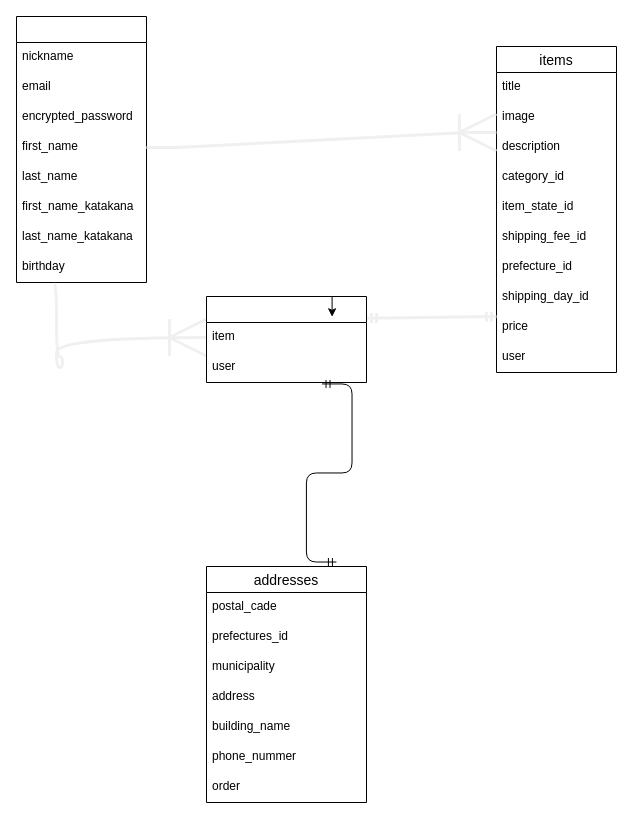
This 633x819 diagram has some shape labels left out. Each missing label, with the box of its shape:
orders: (206, 296, 366, 382)
users: (16, 16, 146, 282)
